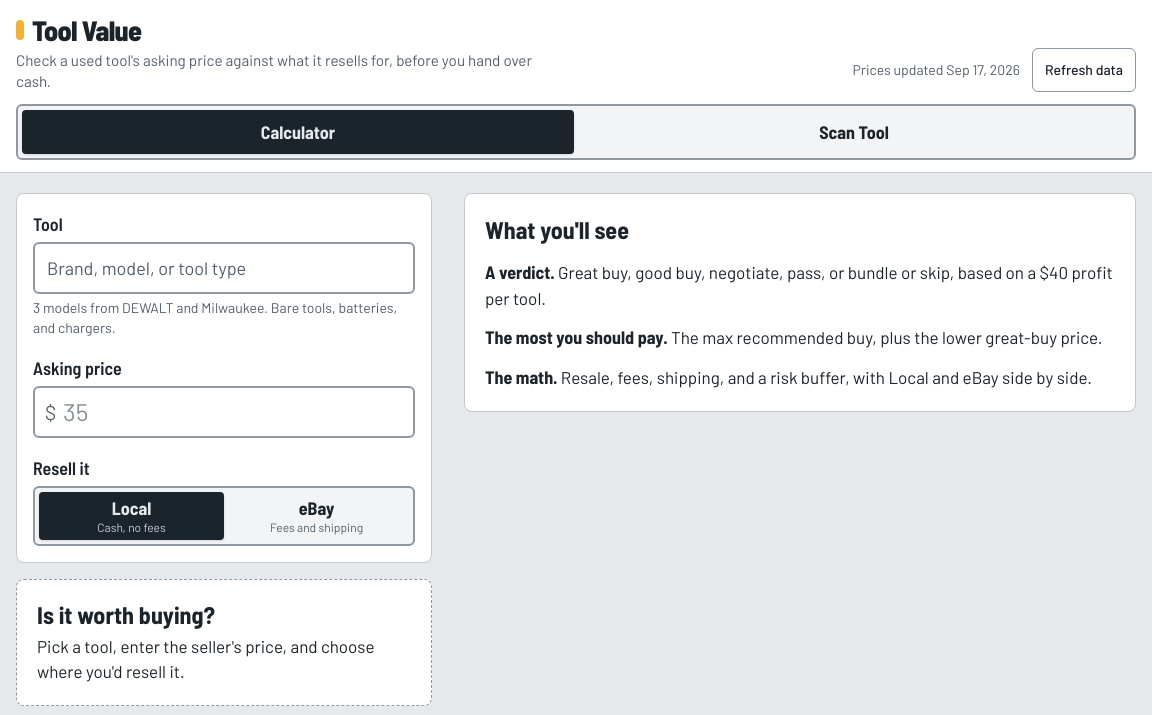
Test: App › gives no estimate for an unsupported model
This screenshot has width=1152, height=715.
Type "makita xdt13" into the dropdown labelled "Tool" at (224, 268), box top-left (33, 242), bottom-right (415, 294)
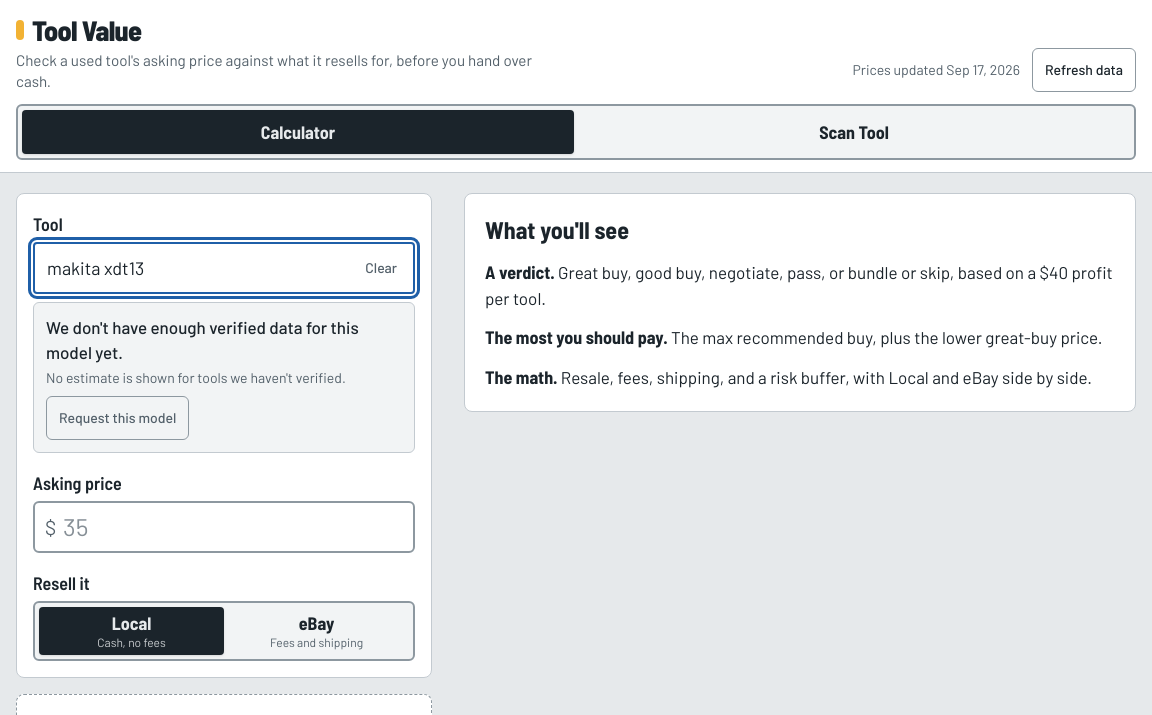
Now the text "We don't have enough verified data for this model yet." is shown, box top-left (46, 315), bottom-right (402, 366)
